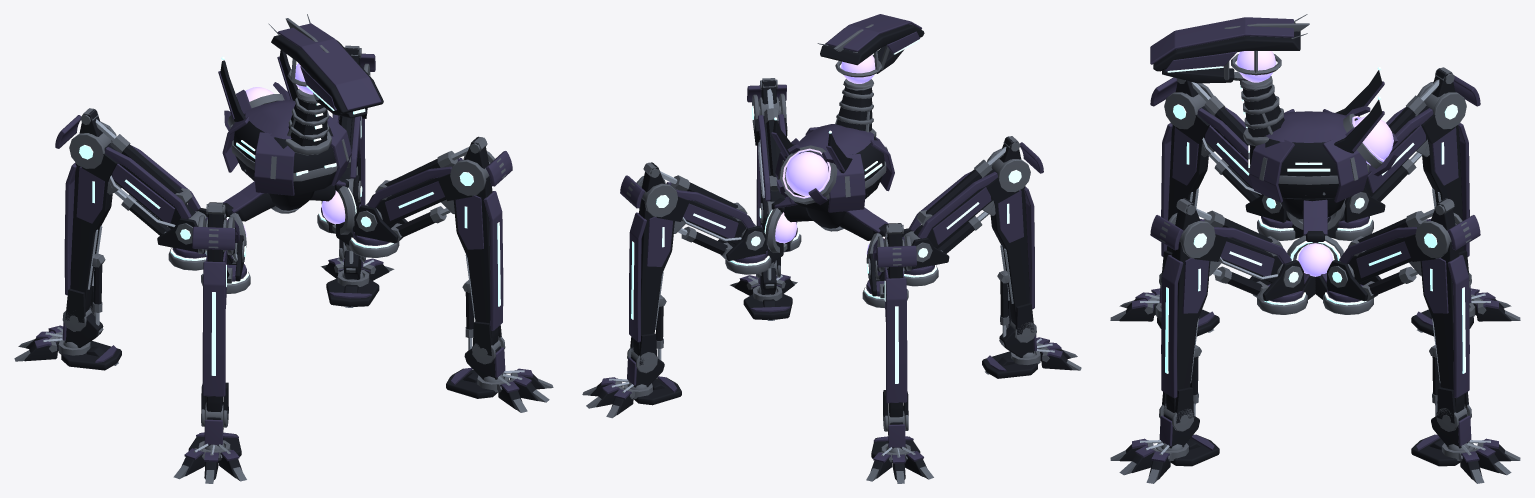
The model's file is enemy_titan.glb.
3 renders of one model, left to right at view 1: azimuth 30°, elevation 25°; view 2: azimuth 150°, elevation 25°; view 3: azimuth 270°, elevation 25°, orthographic. The views are drawn at different scales.
Visible parts, largest first — view 1: body, leg_1_lower, leg_4_lower, head, leg_4_upper, leg_1_upper, leg_3_lower, leg_1_toe, leg_4_toe, leg_3_toe, leg_2_toe, leg_3_upper (+13 smaller); view 2: body, leg_2_lower, leg_3_lower, leg_3_upper, leg_2_upper, leg_4_lower, head, leg_2_toe, leg_3_toe, leg_1_upper, leg_4_toe, leg_1_toe (+16 smaller); view 3: body, head, leg_1_lower, leg_2_lower, leg_1_upper, leg_2_upper, leg_3_upper, leg_4_lower, leg_3_lower, leg_4_upper, leg_1_toe, leg_2_toe (+21 smaller).
Part boxes in pixels (<box>): body: <box>168,50,399,293</box>; leg_1_lower: <box>453,137,505,364</box>; leg_4_lower: <box>62,108,112,331</box>; head: <box>268,14,383,118</box>; leg_4_upper: <box>55,115,206,229</box>; leg_1_upper: <box>365,151,512,225</box>; leg_3_lower: <box>201,202,228,427</box>; leg_1_toe: <box>446,367,553,412</box>; leg_4_toe: <box>14,325,121,370</box>; leg_3_toe: <box>173,432,246,483</box>; leg_2_toe: <box>321,257,394,307</box>; leg_3_upper: <box>192,215,239,264</box>; body: <box>725,117,938,307</box>; leg_2_lower: <box>627,162,674,373</box>; leg_3_lower: <box>990,136,1036,342</box>; leg_3_upper: <box>903,142,1043,247</box>; leg_2_upper: <box>620,175,756,244</box>; leg_4_lower: <box>883,223,908,431</box>; head: <box>817,14,924,77</box>; leg_2_toe: <box>582,376,681,418</box>; leg_3_toe: <box>982,337,1081,378</box>; leg_1_upper: <box>747,84,787,216</box>; leg_4_toe: <box>866,436,933,483</box>; leg_1_toe: <box>730,274,797,320</box>; body: <box>1243,67,1397,314</box>; head: <box>1150,14,1309,83</box>; leg_1_lower: <box>1159,198,1210,431</box>; leg_2_lower: <box>1420,198,1471,431</box>; leg_1_upper: <box>1150,213,1291,282</box>; leg_2_upper: <box>1339,213,1480,282</box>; leg_3_upper: <box>1150,77,1261,196</box>; leg_4_lower: <box>1422,68,1471,287</box>; leg_3_lower: <box>1159,78,1208,287</box>; leg_4_upper: <box>1344,75,1480,201</box>; leg_1_toe: <box>1110,434,1219,483</box>; leg_2_toe: <box>1411,434,1520,483</box>.
Size of the model in its own units: 16.66 by 15.01 by 15.25.
